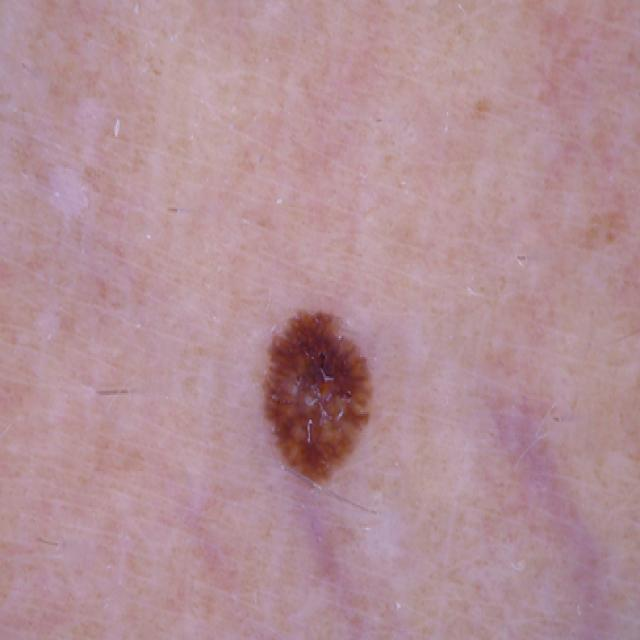Keratosis: (213, 241, 436, 553)
